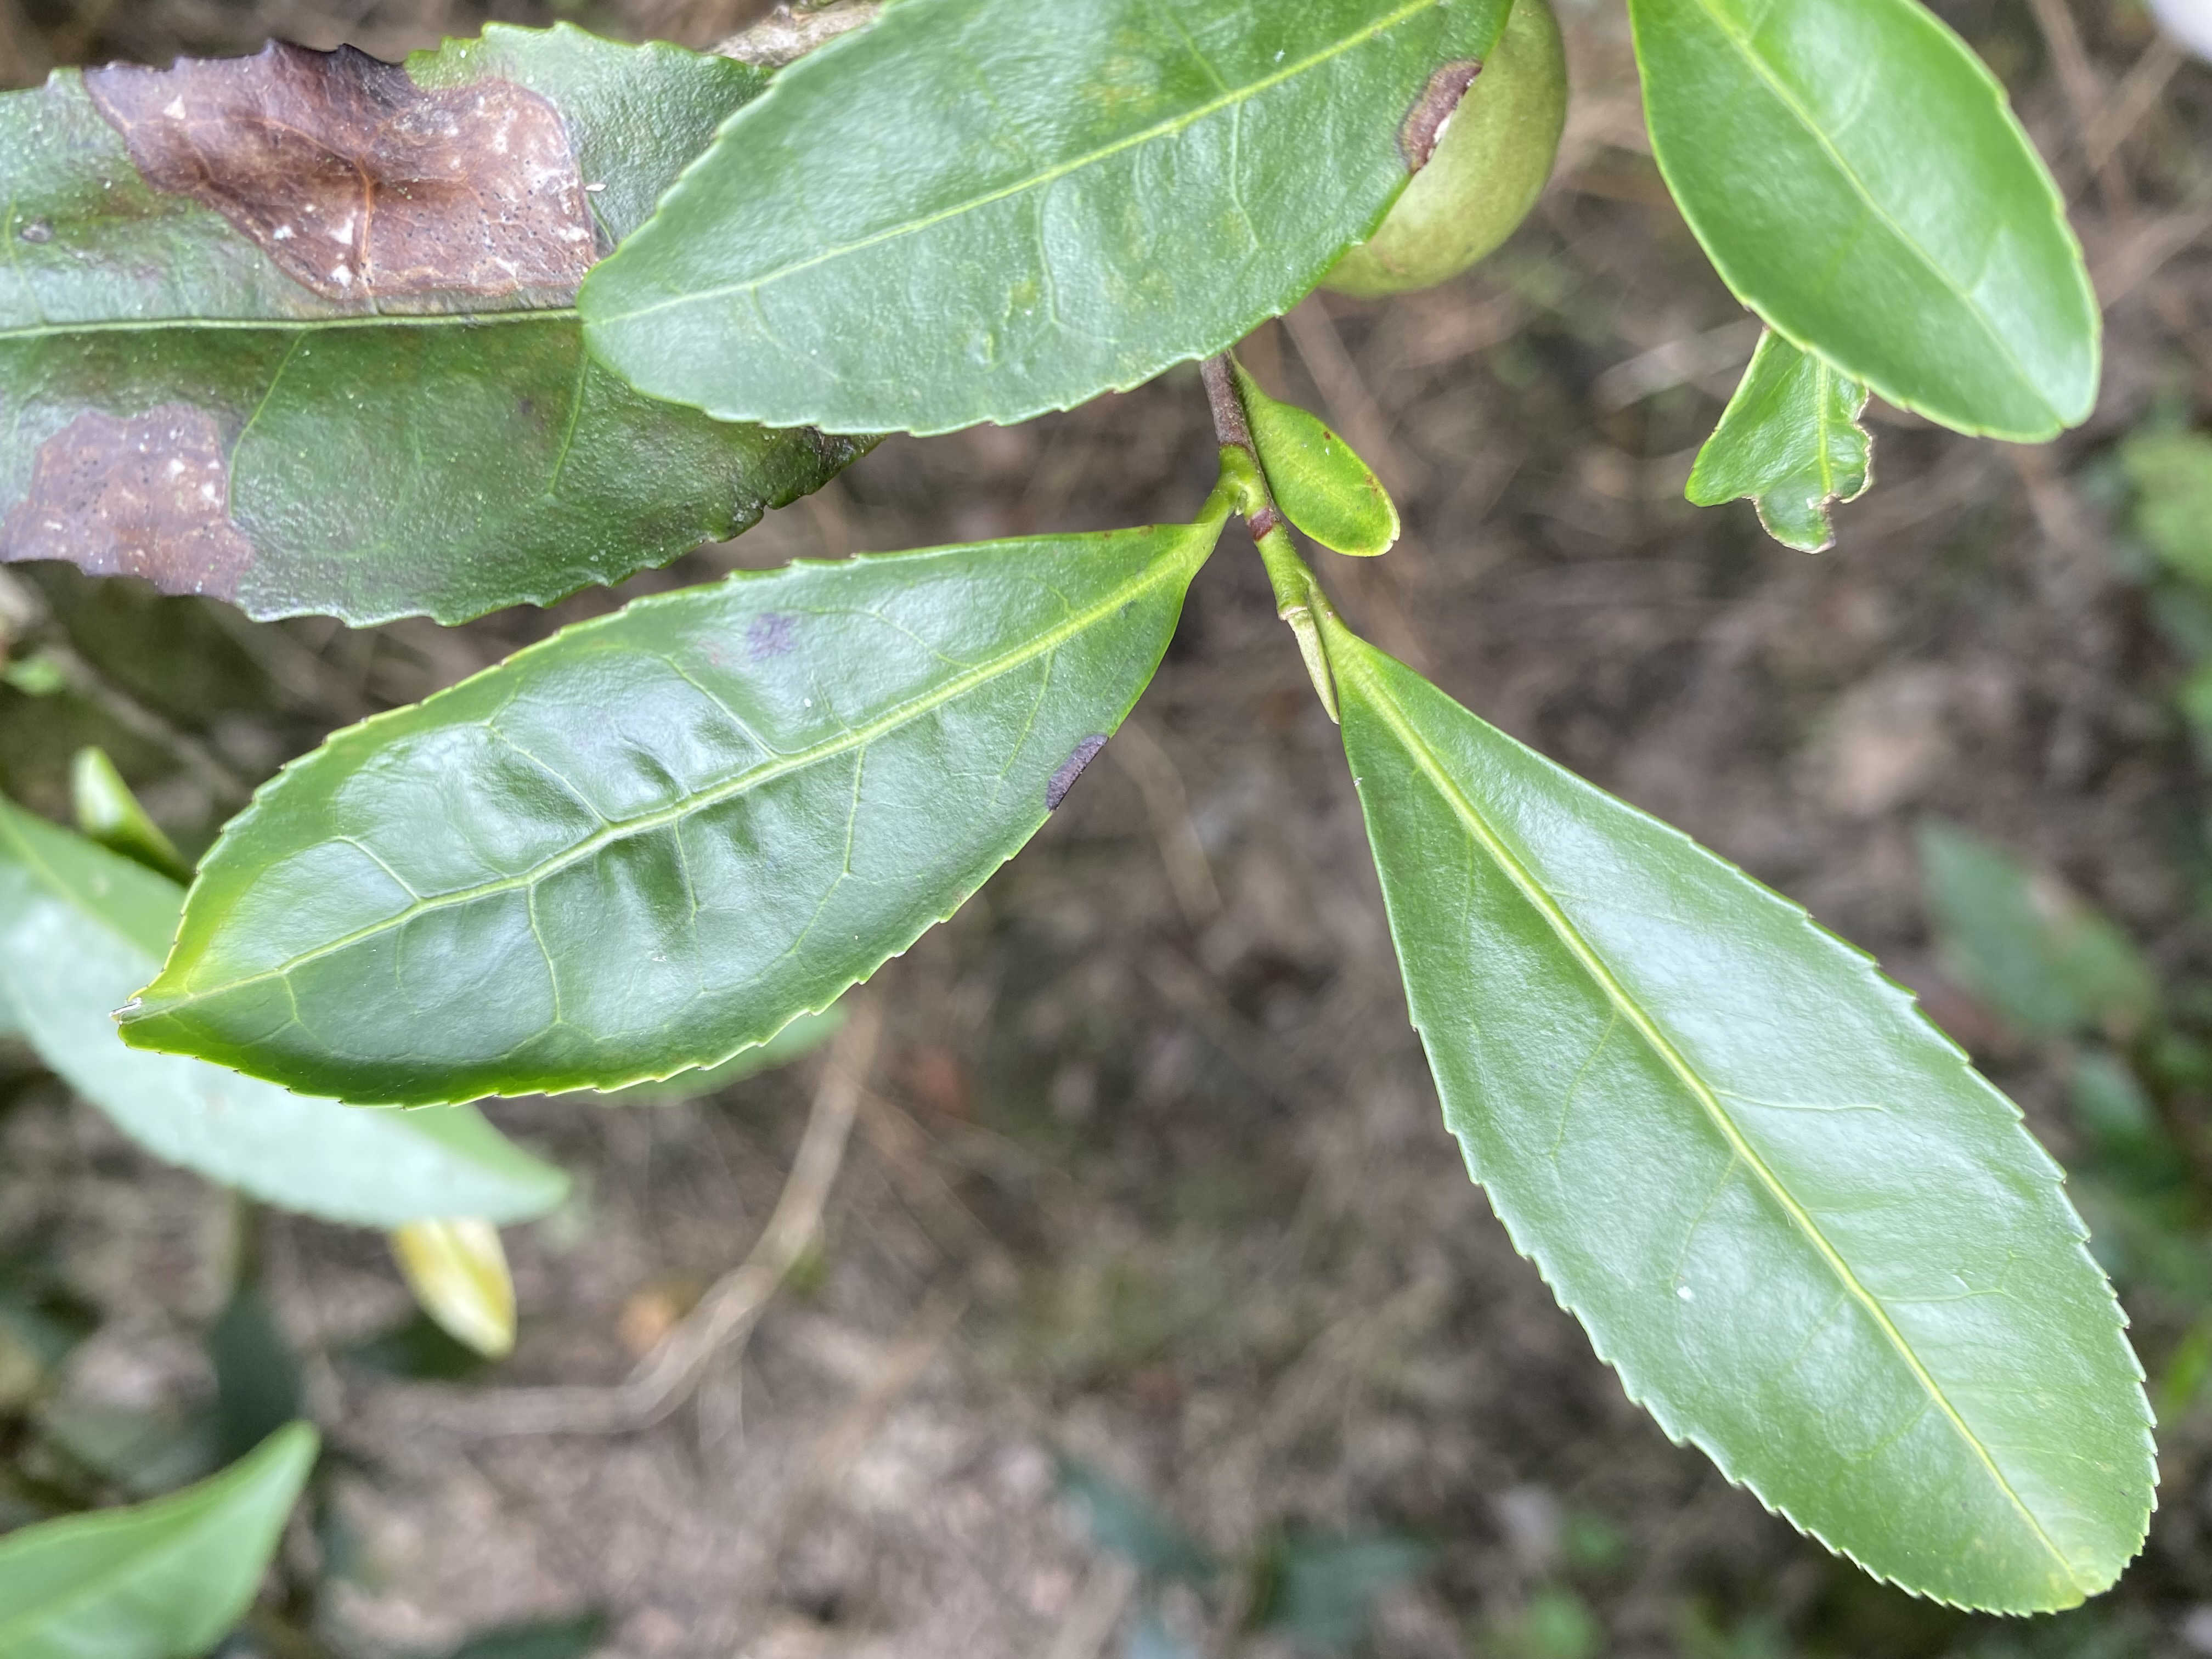healthy: (1324, 647, 2161, 1617), (1627, 2, 2106, 446)
tanju_high: (3, 23, 878, 627), (578, 2, 1517, 439)
tanju_low: (108, 528, 1193, 1114)
